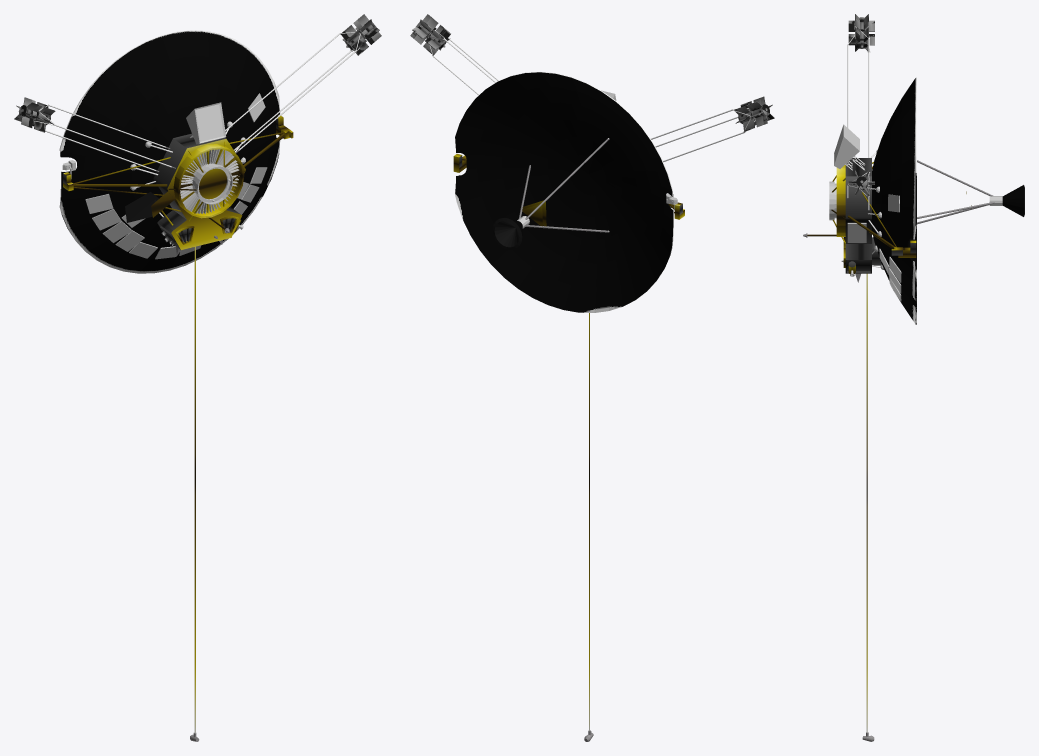
Rendered from pioneer10.glb.
3 renders of one model, left to right at view 1: azimuth 30°, elevation 25°; view 2: azimuth 150°, elevation 25°; view 3: azimuth 270°, elevation 25°, orthographic. The views are drawn at different scales.
Visible parts, largest first — view 1: AO_dish1, Foil_gold8, Silver4, Norm_silver0, Foil_silver9, Tex_027, AO_rtg10, Foil_trans2, Tex_black3; view 2: AO_dish1, AO_rtg10, Tex_027, Foil_gold8, Tex_black3; view 3: AO_dish1, Foil_silver9, Foil_gold8, Tex_027, Silver4, AO_rtg10, Norm_silver0, Tex_016.
Part boxes in pixels (<box>): AO_dish1: <box>59,30,280,273</box>; Foil_gold8: <box>63,116,293,733</box>; Silver4: <box>62,93,266,258</box>; Norm_silver0: <box>85,94,267,259</box>; Foil_silver9: <box>63,118,278,249</box>; Tex_027: <box>34,32,360,741</box>; AO_rtg10: <box>14,14,381,132</box>; Foil_trans2: <box>196,104,223,141</box>; Tex_black3: <box>125,192,159,222</box>; AO_dish1: <box>455,72,673,312</box>; AO_rtg10: <box>410,14,774,131</box>; Tex_027: <box>428,30,755,741</box>; Foil_gold8: <box>453,154,684,730</box>; Tex_black3: <box>492,218,522,249</box>; AO_dish1: <box>872,77,1023,324</box>; Foil_silver9: <box>845,158,916,273</box>; Foil_gold8: <box>807,162,971,732</box>; Tex_027: <box>803,30,994,741</box>; Silver4: <box>829,124,1002,301</box>; AO_rtg10: <box>848,14,874,195</box>; Norm_silver0: <box>879,194,900,301</box>; Tex_016: <box>847,223,866,242</box>.
Size of the model in its own units: 4.52 by 8.25 by 2.54.
Materials: 10 (8 with a texture image).
